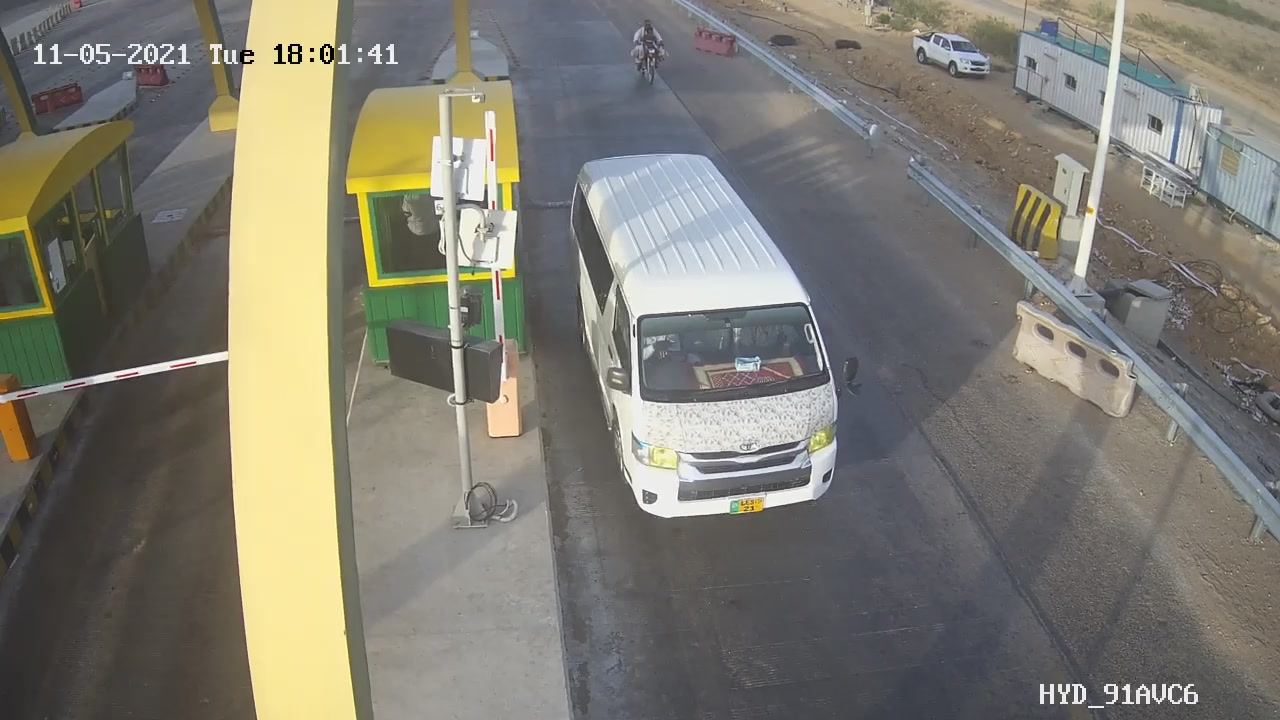F2: (555, 151, 876, 524)
